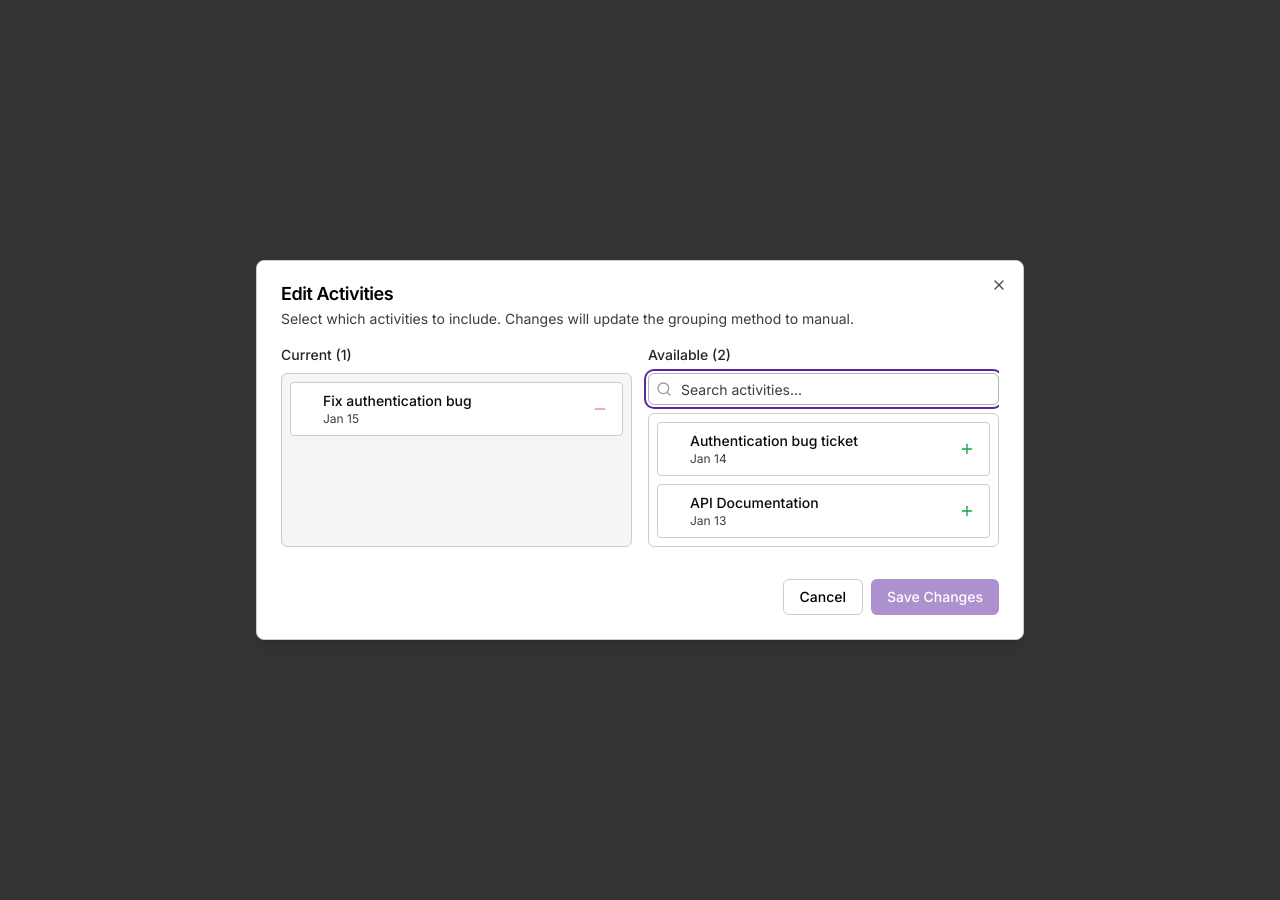
Test: EditActivitiesModal › adds activity to current when add button clicked
Note: Find the add button for activity-2
Step 1. Click the button titled "Add to current" next to "Authentication bug ticket" → (967, 449), box [953,435,981,463]
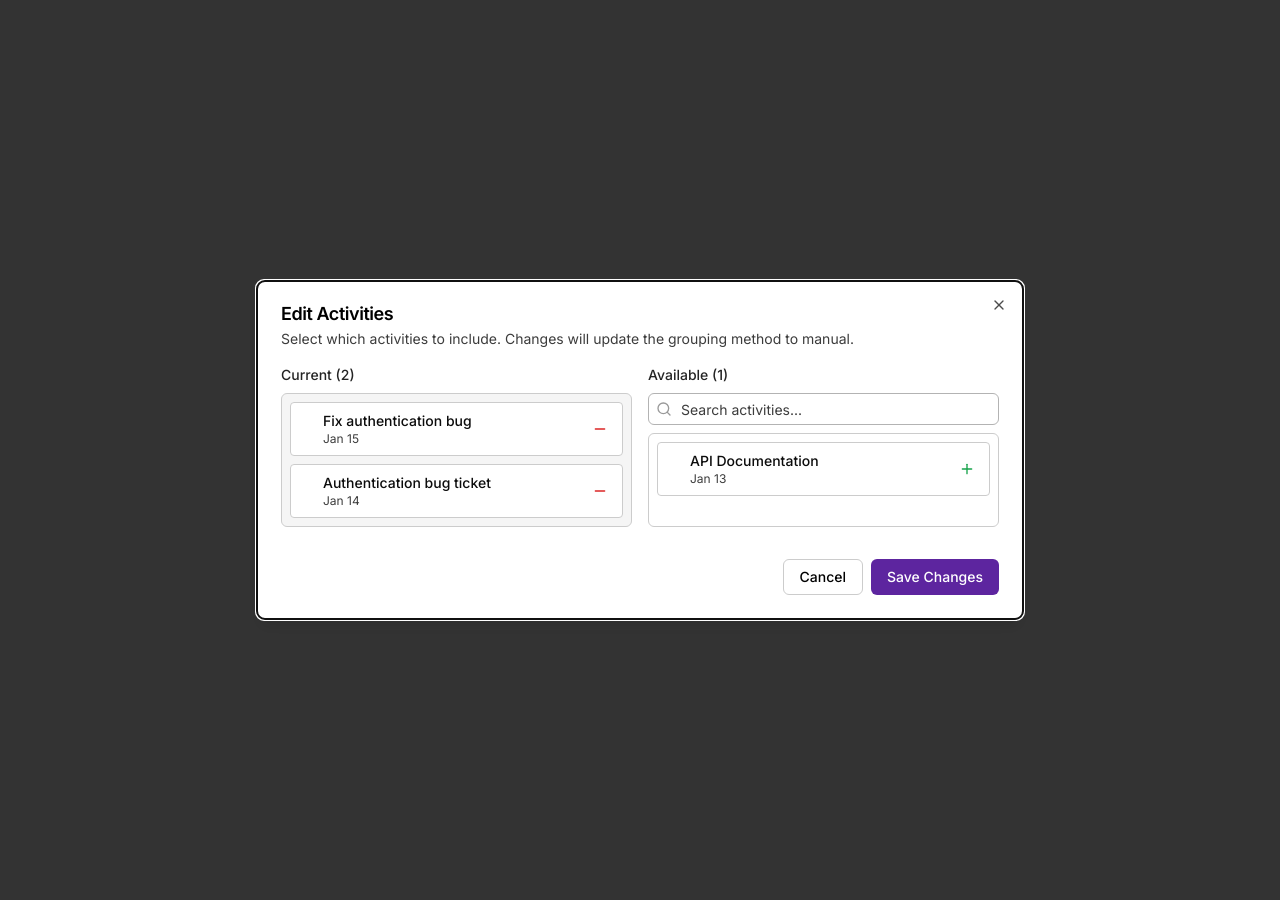
Result: the heading "Current (2)" is shown at [281,366,354,383]
